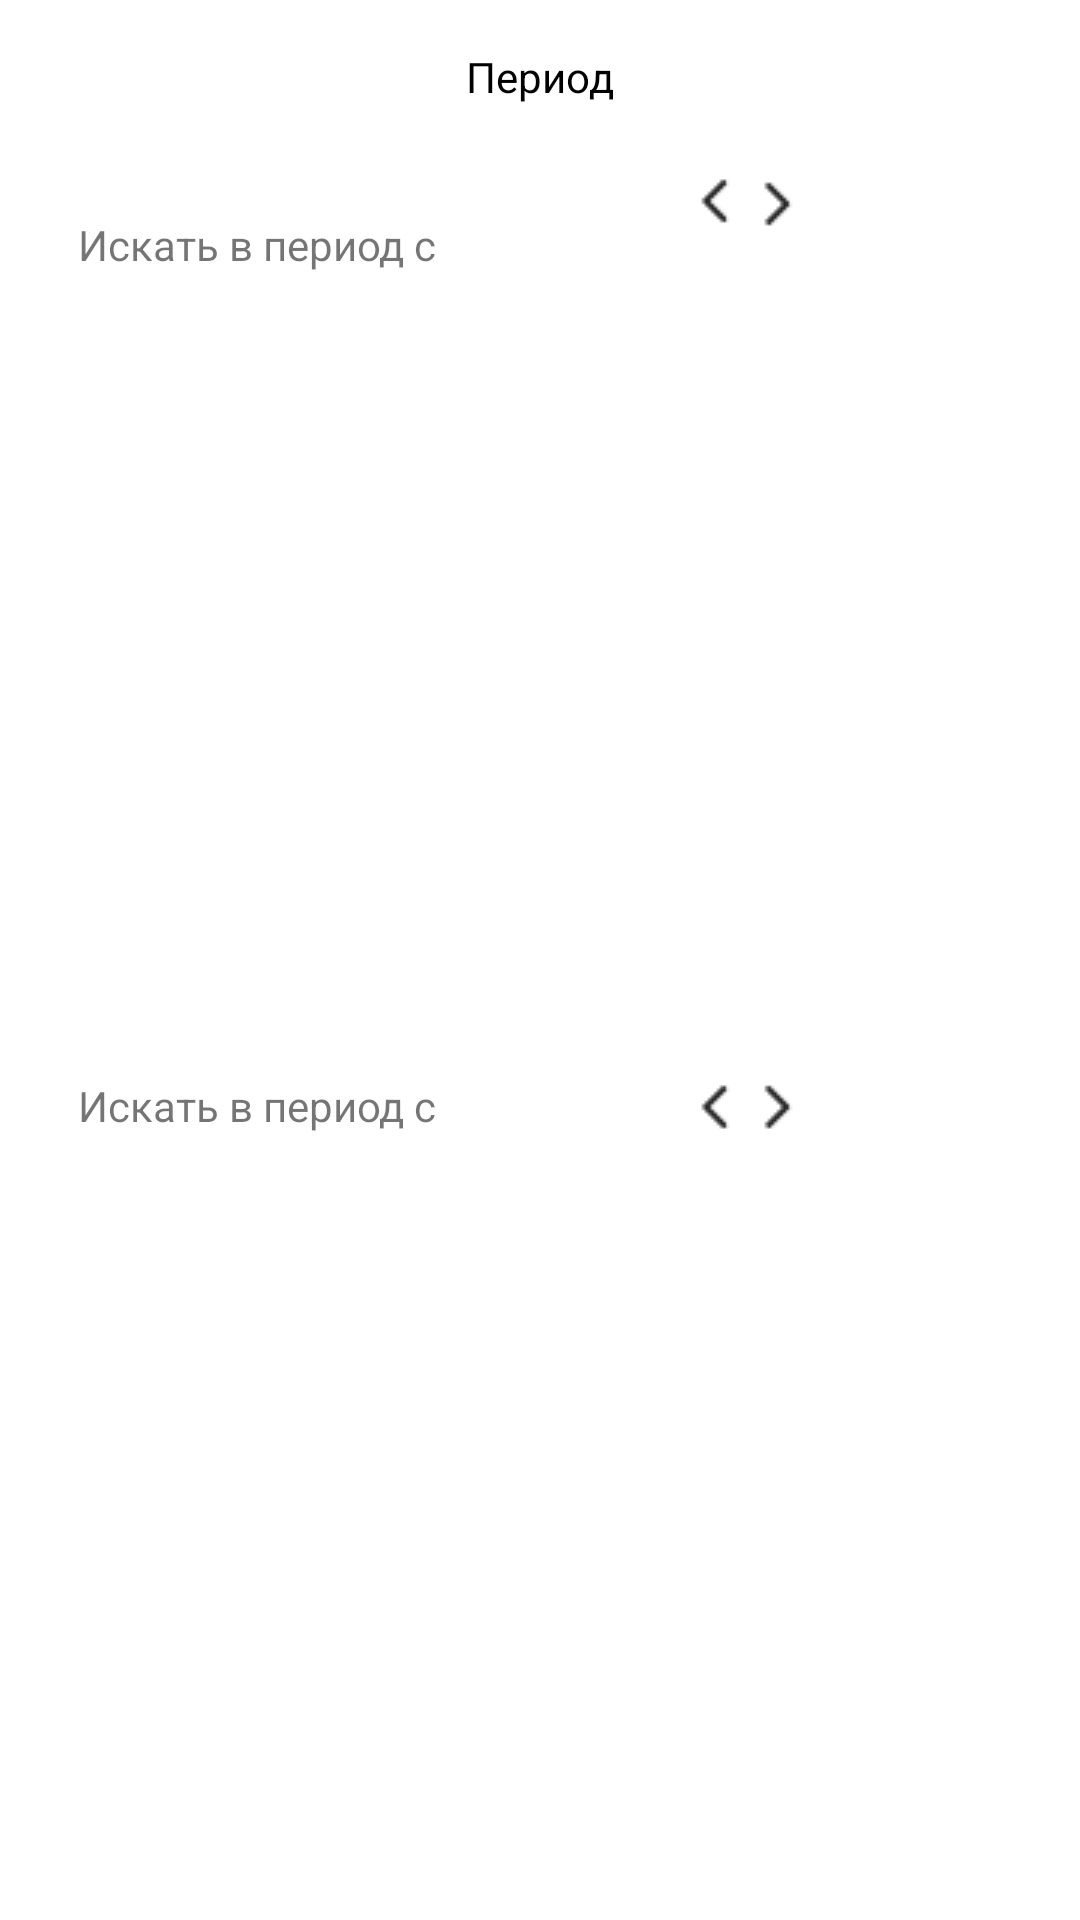

Locate icon controls on the screen. Image size 1080px×1920px, boxes as (x1, y1, x2, y2).
next: (764, 182, 791, 226), (764, 1085, 791, 1129)
prev: (701, 179, 728, 223), (701, 1085, 728, 1129)
